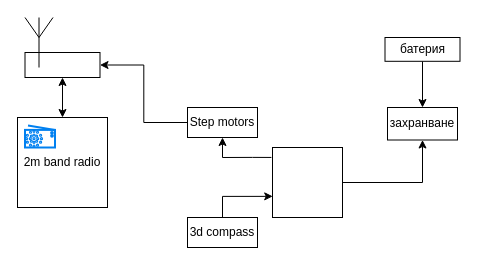
Some shapes in this 478 by 265 pixel diagram are drawn without their labels. The centre of each missing label's shape, as x and y in pixels:
antena: (x=62, y=65)
Arduino: (x=307, y=182)
